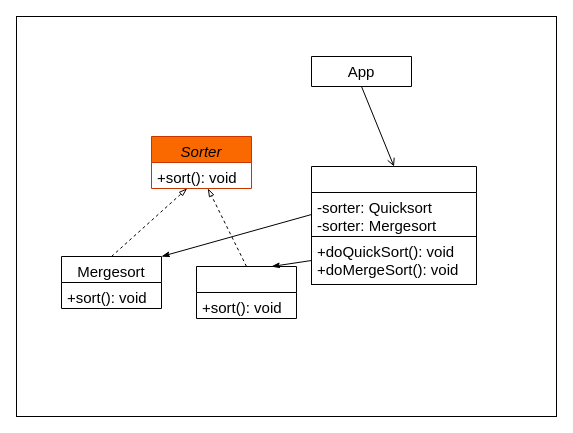
Some shapes in this 573 by 433 pixel diagram are drawn without their labels. Here are the shapes that lost their labels. From the top down, the box of each, then its label:
(310, 166, 476, 236): SortingManager
(196, 266, 296, 318): Quicksort
